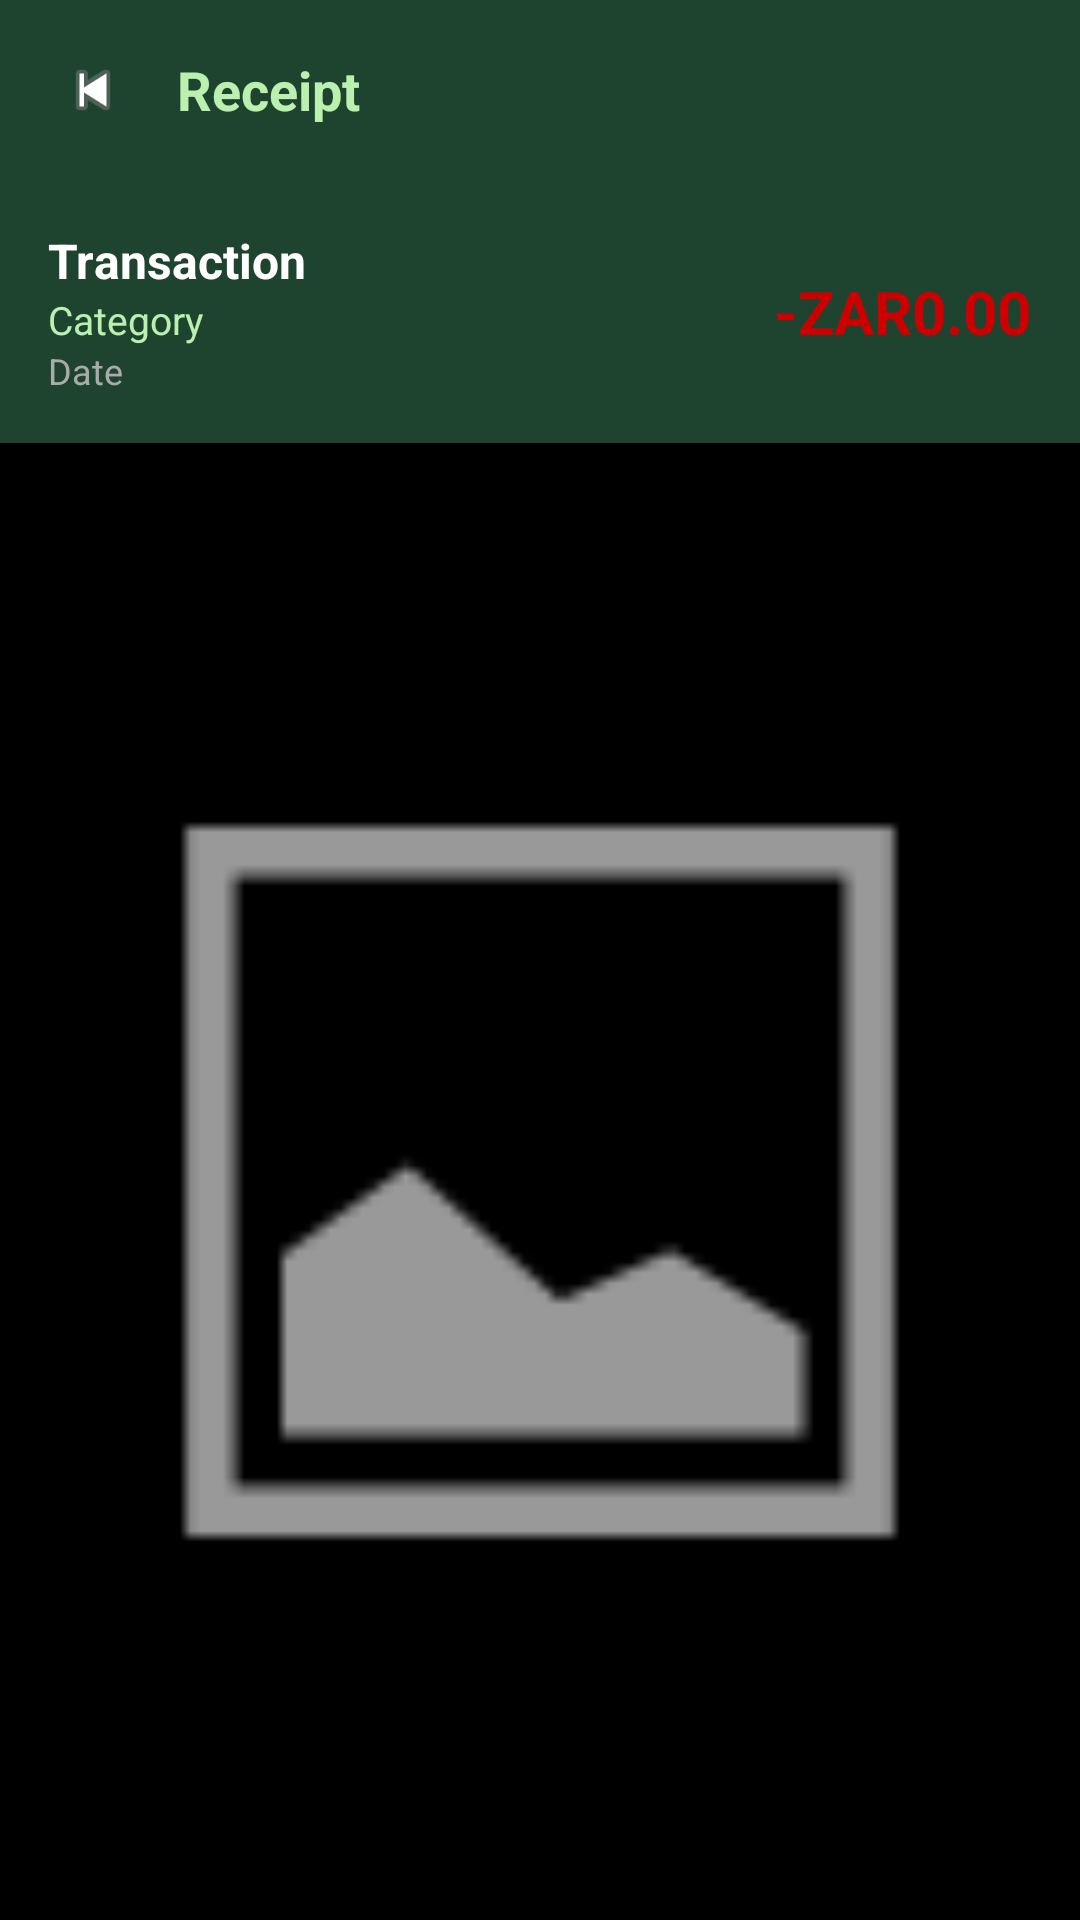

Where icons sit on this 1080×1920 app screen, as [x1,y1,x2,y2]:
previous: [76,70,110,110]
